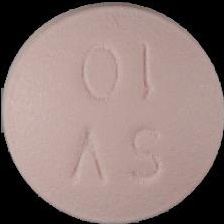21695-739: (0, 0, 224, 224)
